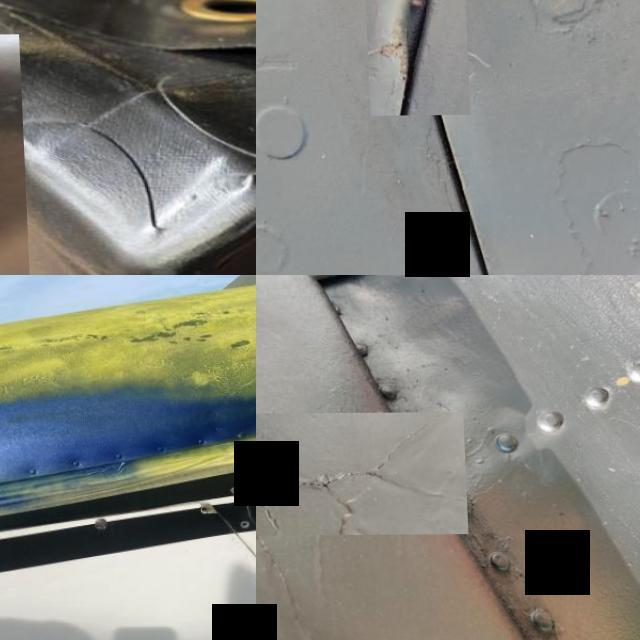Crack: (256, 412, 465, 536)
Dent: (361, 0, 467, 116)
Missing_Fastener: (196, 506, 207, 516), (236, 520, 247, 530), (227, 487, 236, 495)
